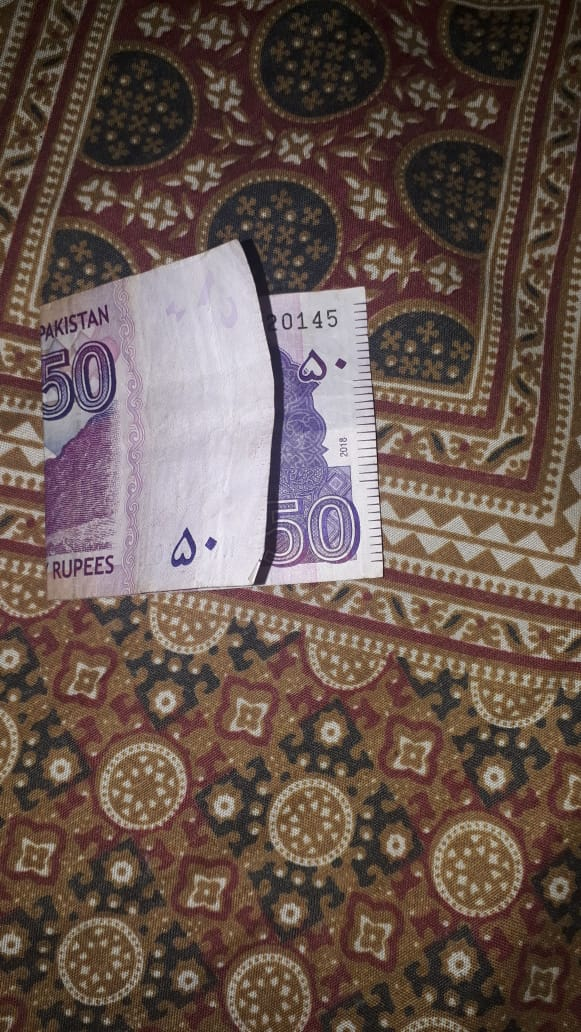50 rupee: (18, 246, 427, 617)
